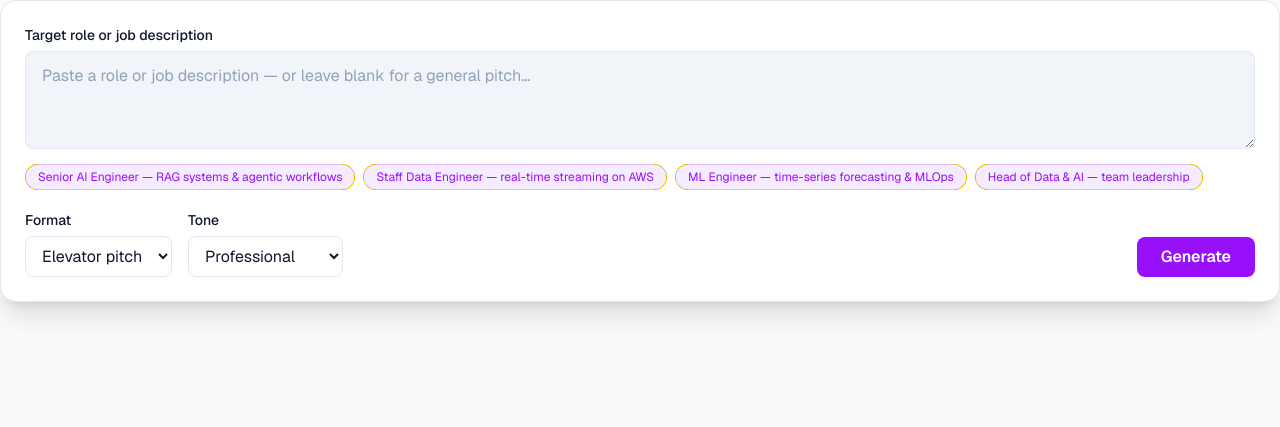
ContentGenerator (streaming) › shows a network-error message when the fetch throws
The width and height of the screenshot is (1280, 427).
Click the button "Generate" at (1196, 257), box [1137,237,1255,277]
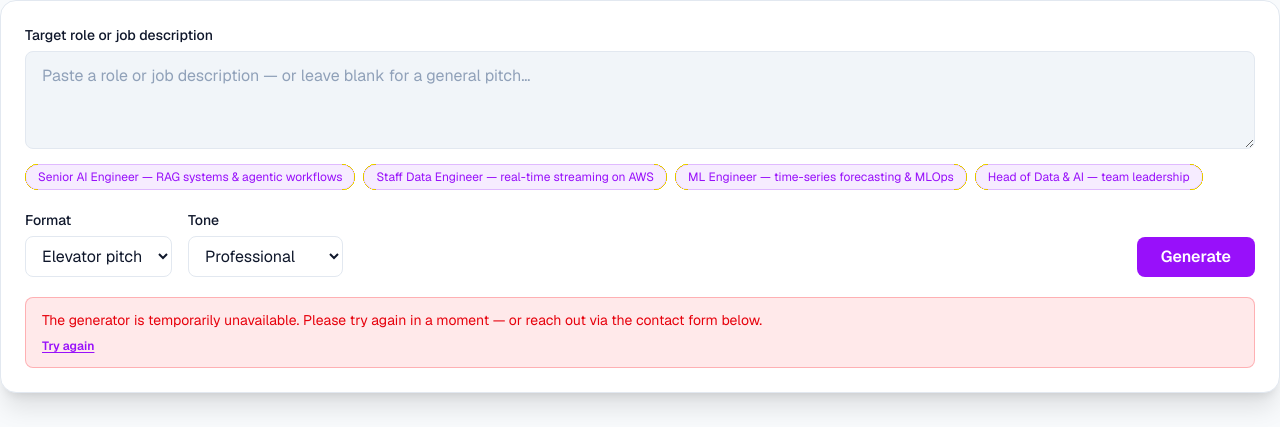
Expected: the text "The generator is temporarily unavailable" is shown, [42,311,762,329]
